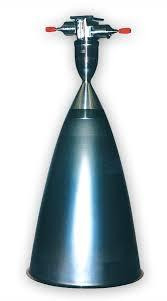thruster: (26, 47, 147, 290)
